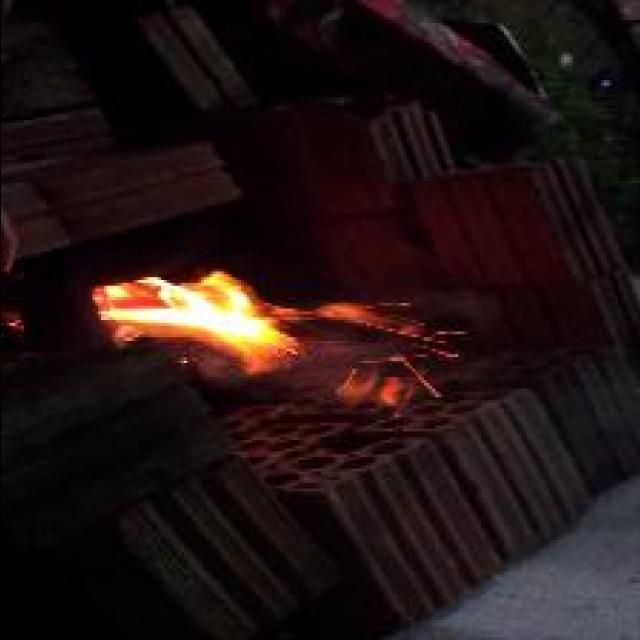Fire: (91, 272, 303, 374)
